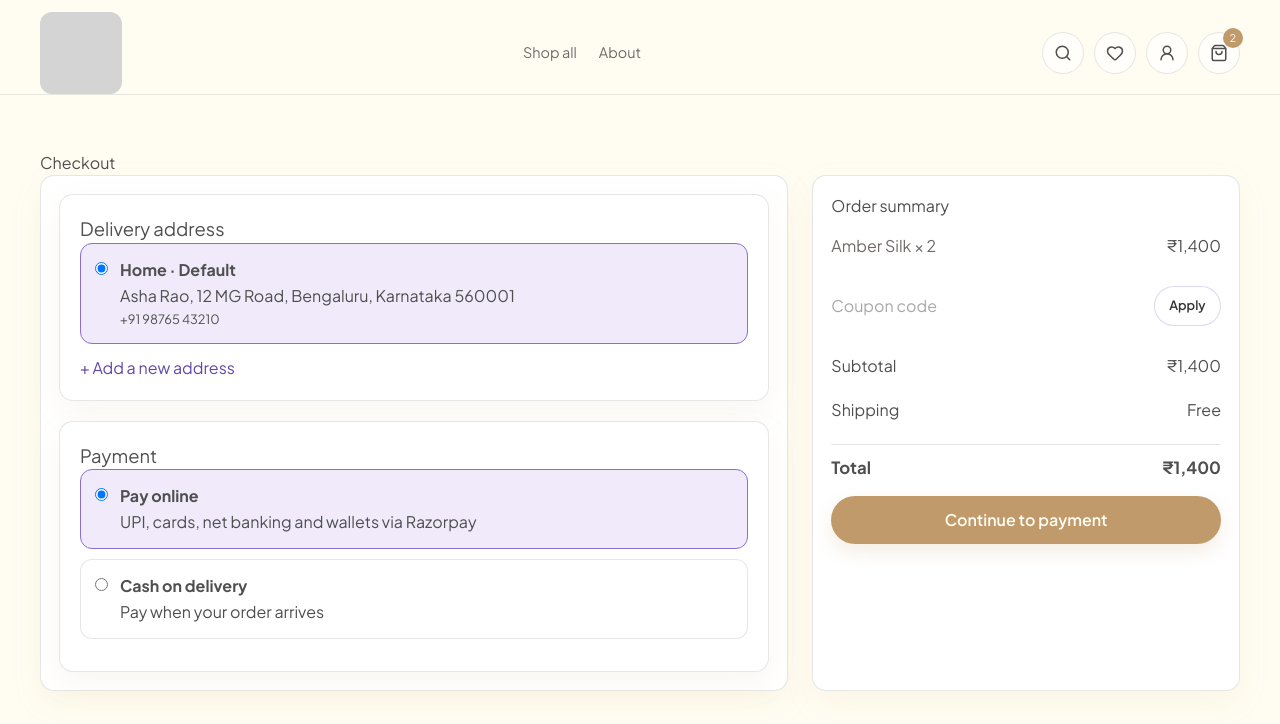
Scenario: checkout › pays with Razorpay and shows success only after the server verifies the payment
The image size is (1280, 724).
What coordinates should you click on to do the following:
click the button "Continue to payment"
I would click on:
 (1026, 520)
Its box is [831,496,1221,544].
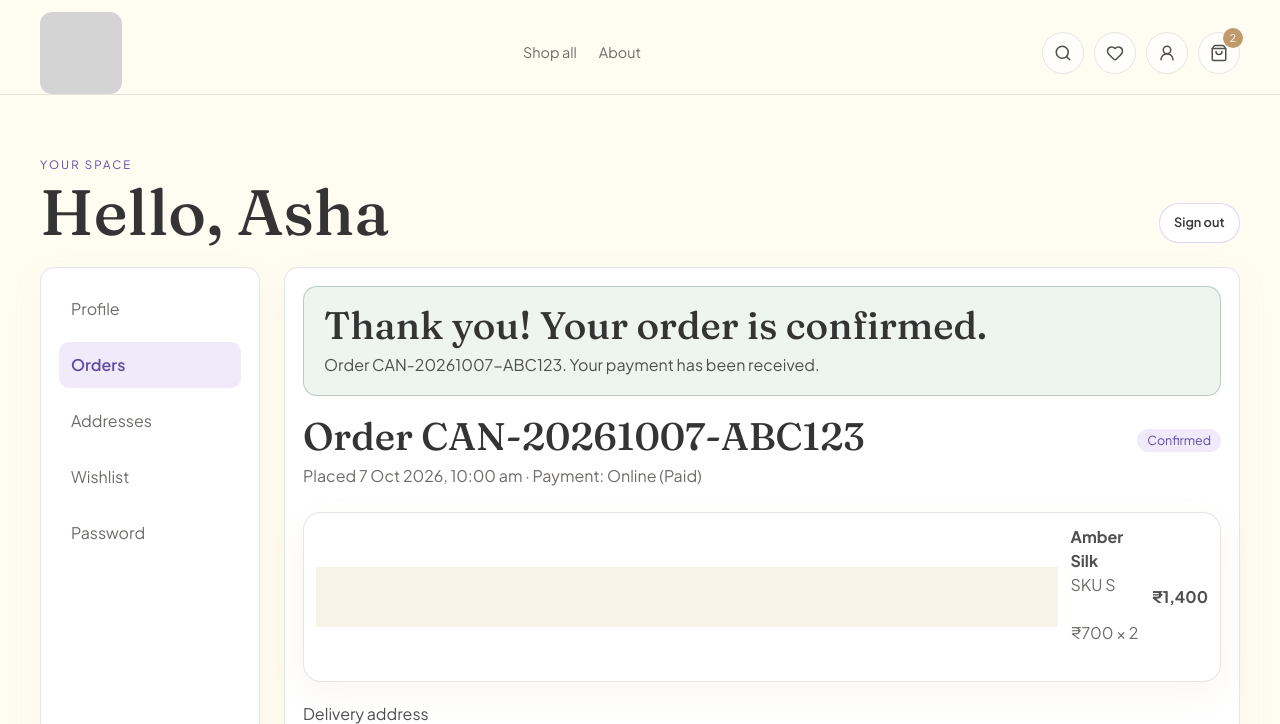
Expected: the text "Order CAN-20261007-ABC123. Your payment has been received." is shown, [324,354,820,375]
